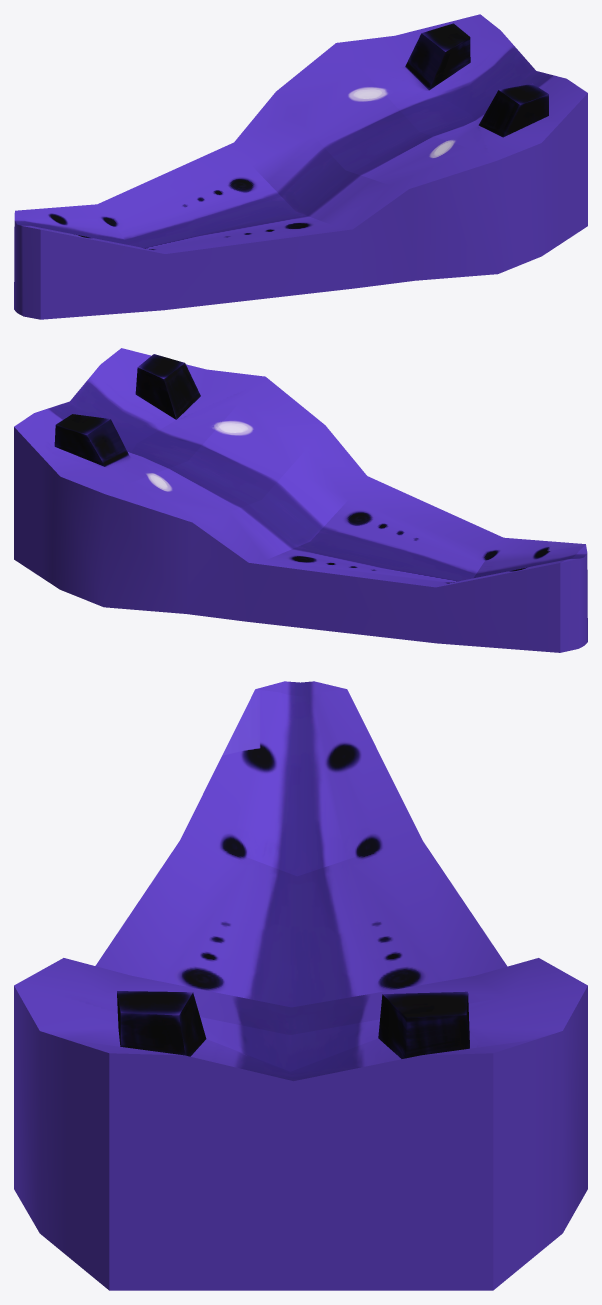
The model's file is cure001_02.fbx.
The picture shows the model from 3 angles, top to bottom: view 1: azimuth 30°, elevation 25°; view 2: azimuth 150°, elevation 25°; view 3: azimuth 270°, elevation 25°; orthographic projection. The views are drawn at different scales.
Visible parts, largest first — view 1: pCube1; view 2: pCube1; view 3: pCube1.
Part boxes in pixels (box(x1,y1,x2,y2)): pCube1: box(14, 14, 587, 319); pCube1: box(14, 348, 587, 652); pCube1: box(14, 681, 587, 1290).
Size of the model in its own units: 4.41 by 1.13 by 2.38.
1 material, 1 textured.
